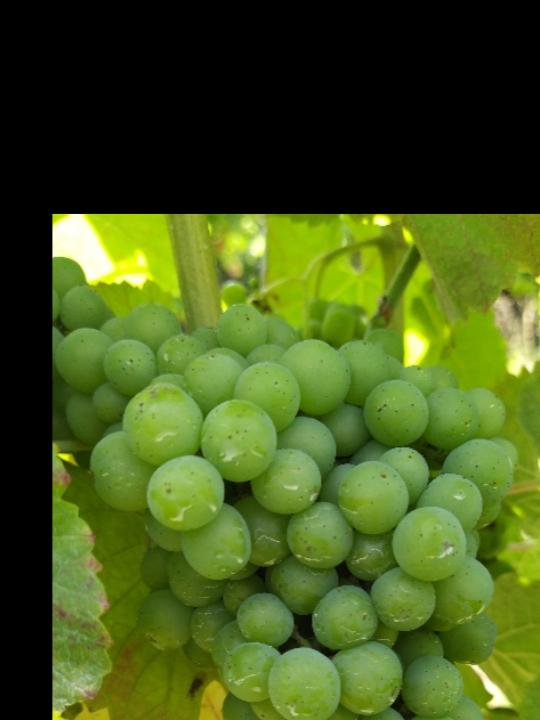grape: (81, 336, 528, 720)
